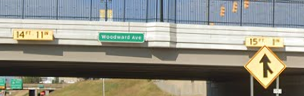1: (15, 29, 20, 40), (34, 29, 39, 39), (270, 37, 275, 47), (40, 29, 44, 39), (248, 37, 253, 45)
4: (18, 28, 25, 39)
5: (251, 37, 259, 46)
overheadsign: (12, 27, 54, 40), (244, 35, 284, 47)
